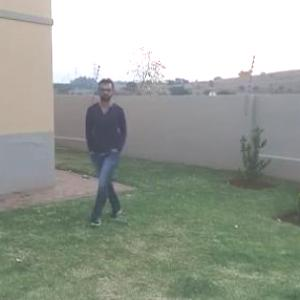follow: (81, 76, 128, 214)
